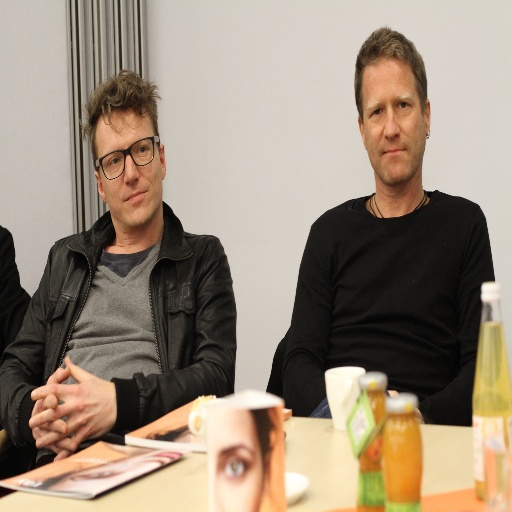hand: (29, 362, 77, 454), (386, 386, 423, 424)
